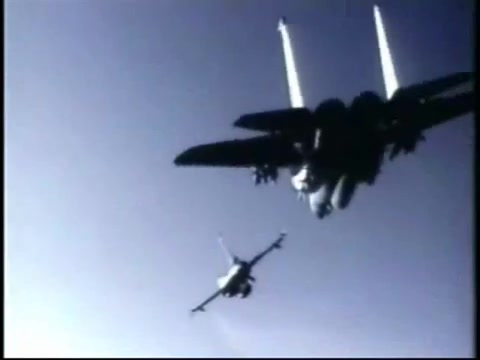aeroplane: (190, 229, 292, 316)
